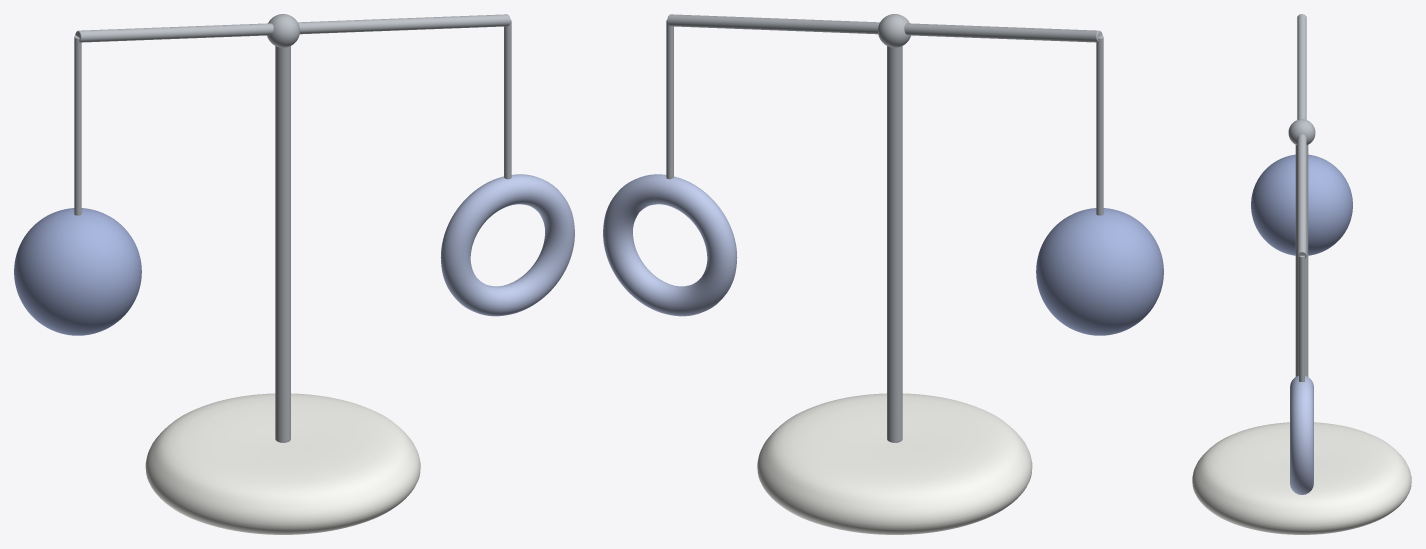
The model's file is balance-mobile.glb.
3 renders of one model, left to right at view 1: azimuth 30°, elevation 25°; view 2: azimuth 150°, elevation 25°; view 3: azimuth 270°, elevation 25°, orthographic. The views are drawn at different scales.
Parts seen in each view (by area): view 1: balancing-beam-/-sphere-counterweight-/-ring-counterweight-0 (×5), sculpted-surface, fulcrum-002, fulcrum-003; view 2: balancing-beam-/-sphere-counterweight-/-ring-counterweight-0 (×5), sculpted-surface, fulcrum-002, fulcrum-003; view 3: sculpted-surface, balancing-beam-/-sphere-counterweight-/-ring-counterweight-0 (×4), fulcrum-002, fulcrum-003.
Part boxes in pixels (x1,y1,x2,y2): balancing-beam-/-sphere-counterweight-/-ring-counterweight-0 (×5): (14, 14, 574, 335); sculpted-surface: (145, 393, 420, 534); fulcrum-002: (275, 46, 290, 442); fulcrum-003: (267, 14, 299, 47); balancing-beam-/-sphere-counterweight-/-ring-counterweight-0 (×5): (603, 14, 1163, 335); sculpted-surface: (757, 393, 1032, 534); fulcrum-002: (887, 46, 902, 442); fulcrum-003: (878, 14, 910, 47); sculpted-surface: (1192, 422, 1411, 534); balancing-beam-/-sphere-counterweight-/-ring-counterweight-0 (×4): (1251, 14, 1352, 494); fulcrum-002: (1295, 145, 1308, 376); fulcrum-003: (1288, 119, 1315, 144).
Size of the model in its own units: 2 by 1.75 by 0.8659.
